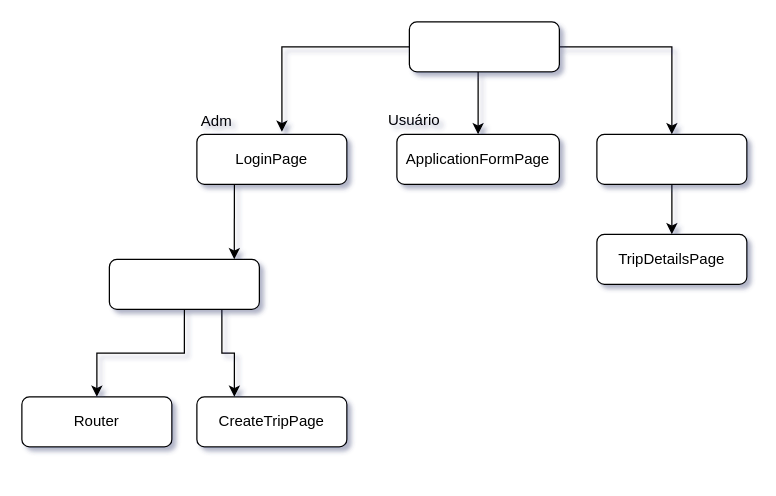
Image size: 776x496. Some labels were removed from this diagram. The shapes that lost their labels are listed below. From the top down, each one's centre as x and y in pixels, then its label:
point 483,46: HOME
point 671,158: ListTripsPage
point 183,283: AdmPanelPage
